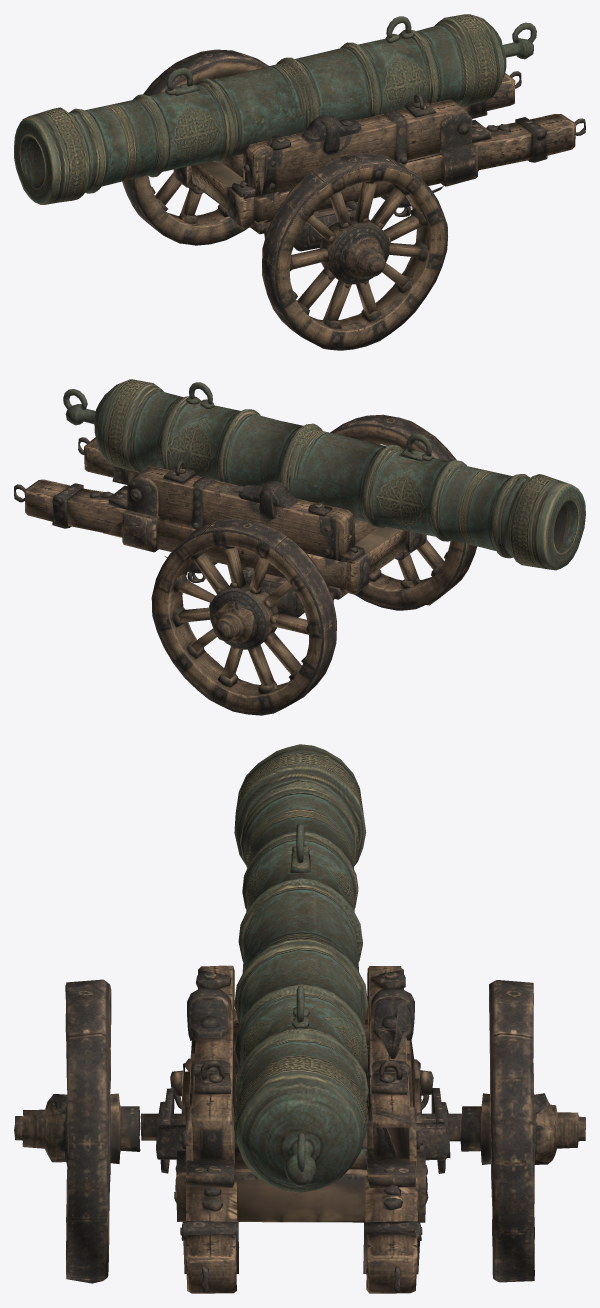
The model's file is Meshy_AI_model.glb.
3 views of the same model, one above another, from view 1: azimuth 30°, elevation 25°; view 2: azimuth 150°, elevation 25°; view 3: azimuth 270°, elevation 25° (orthographic). The views are drawn at different scales.
Size of the model in its own units: 1 by 0.4587 by 0.6388.
Materials: 1 (1 with a texture image).
